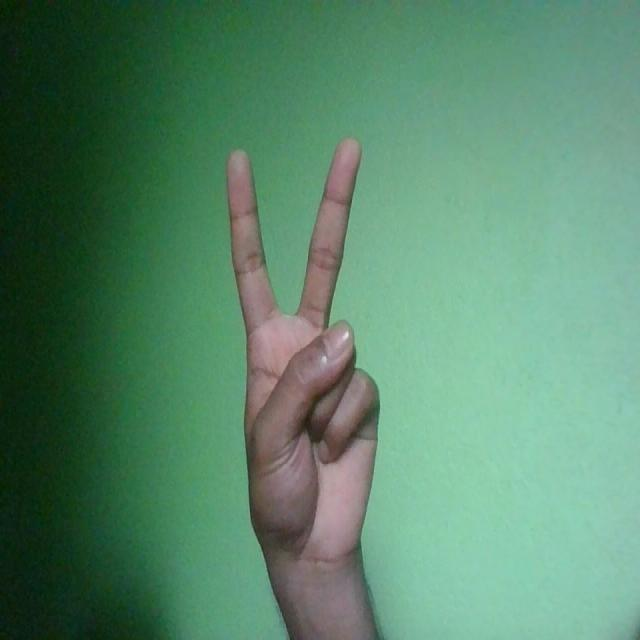Fist: (225, 136, 380, 570)
